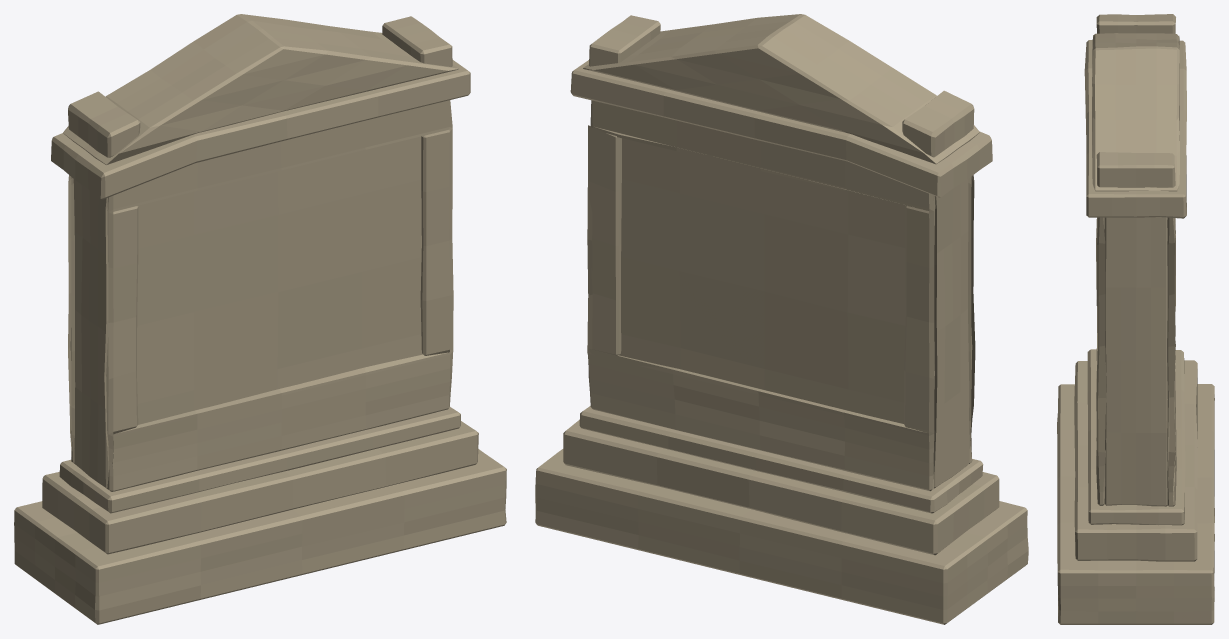
The model's file is Stele.fbx.
The picture shows the model from 3 angles, left to right: view 1: azimuth 30°, elevation 25°; view 2: azimuth 150°, elevation 25°; view 3: azimuth 270°, elevation 25°; orthographic projection. The views are drawn at different scales.
Visible parts, largest first — view 1: Stele; view 2: Stele; view 3: Stele.
Part boxes in pixels (x1=…): Stele: x1=14, y1=14, x2=506, y2=624; Stele: x1=535, y1=14, x2=1028, y2=624; Stele: x1=1057, y1=14, x2=1214, y2=624.
Size of the model in its own units: 2.06 by 2.46 by 0.7273.
